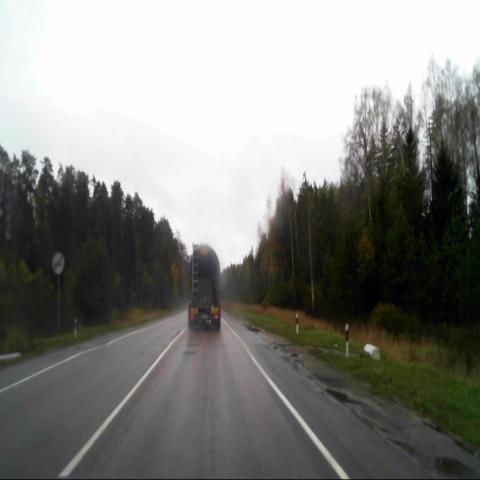3_21: (52, 251, 64, 276)
